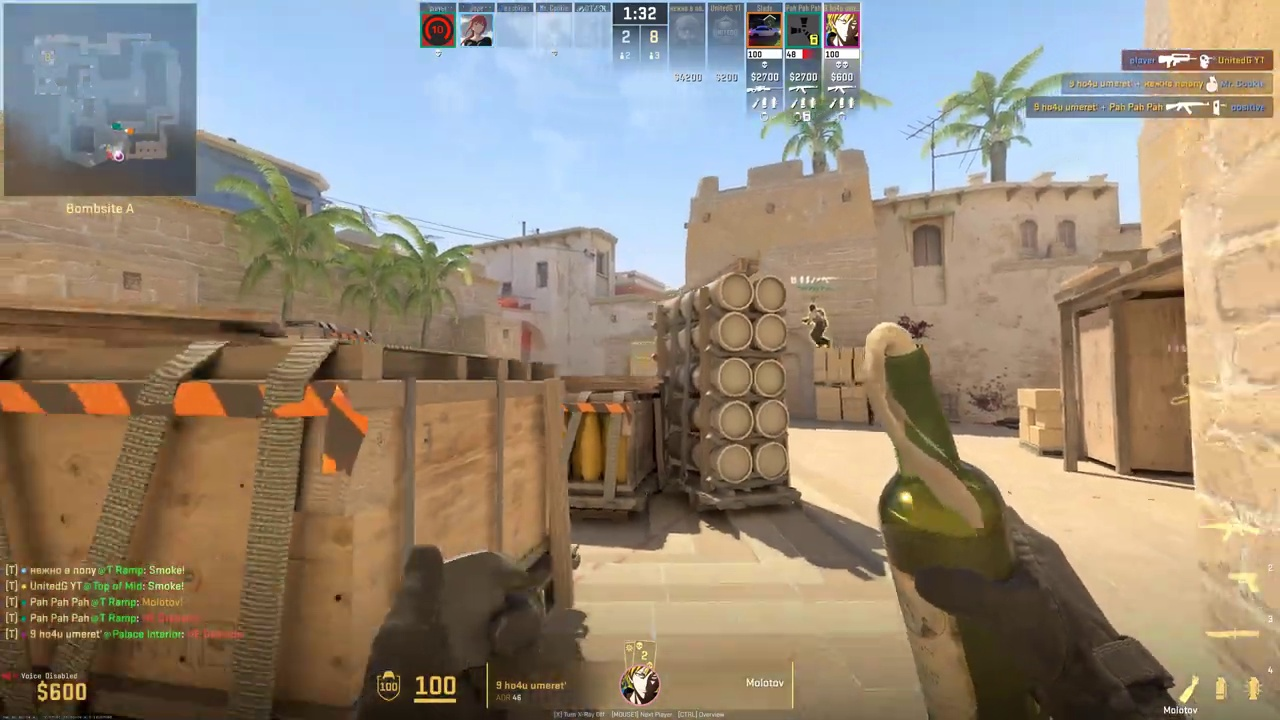Terrorist: (808, 304, 828, 348)
